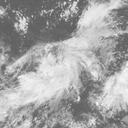cyclone: (42, 46, 84, 87)
